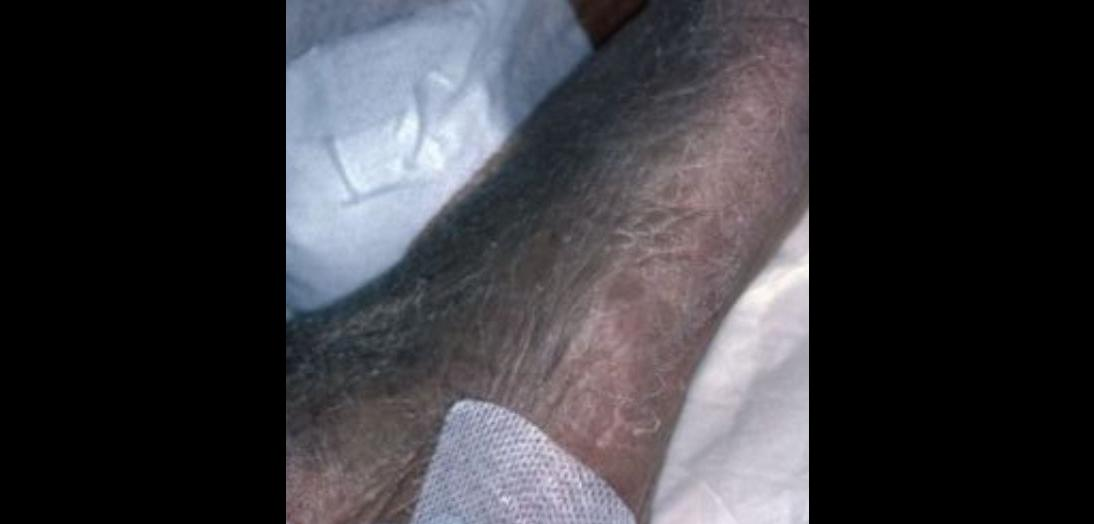Stage1: (417, 0, 703, 328)
